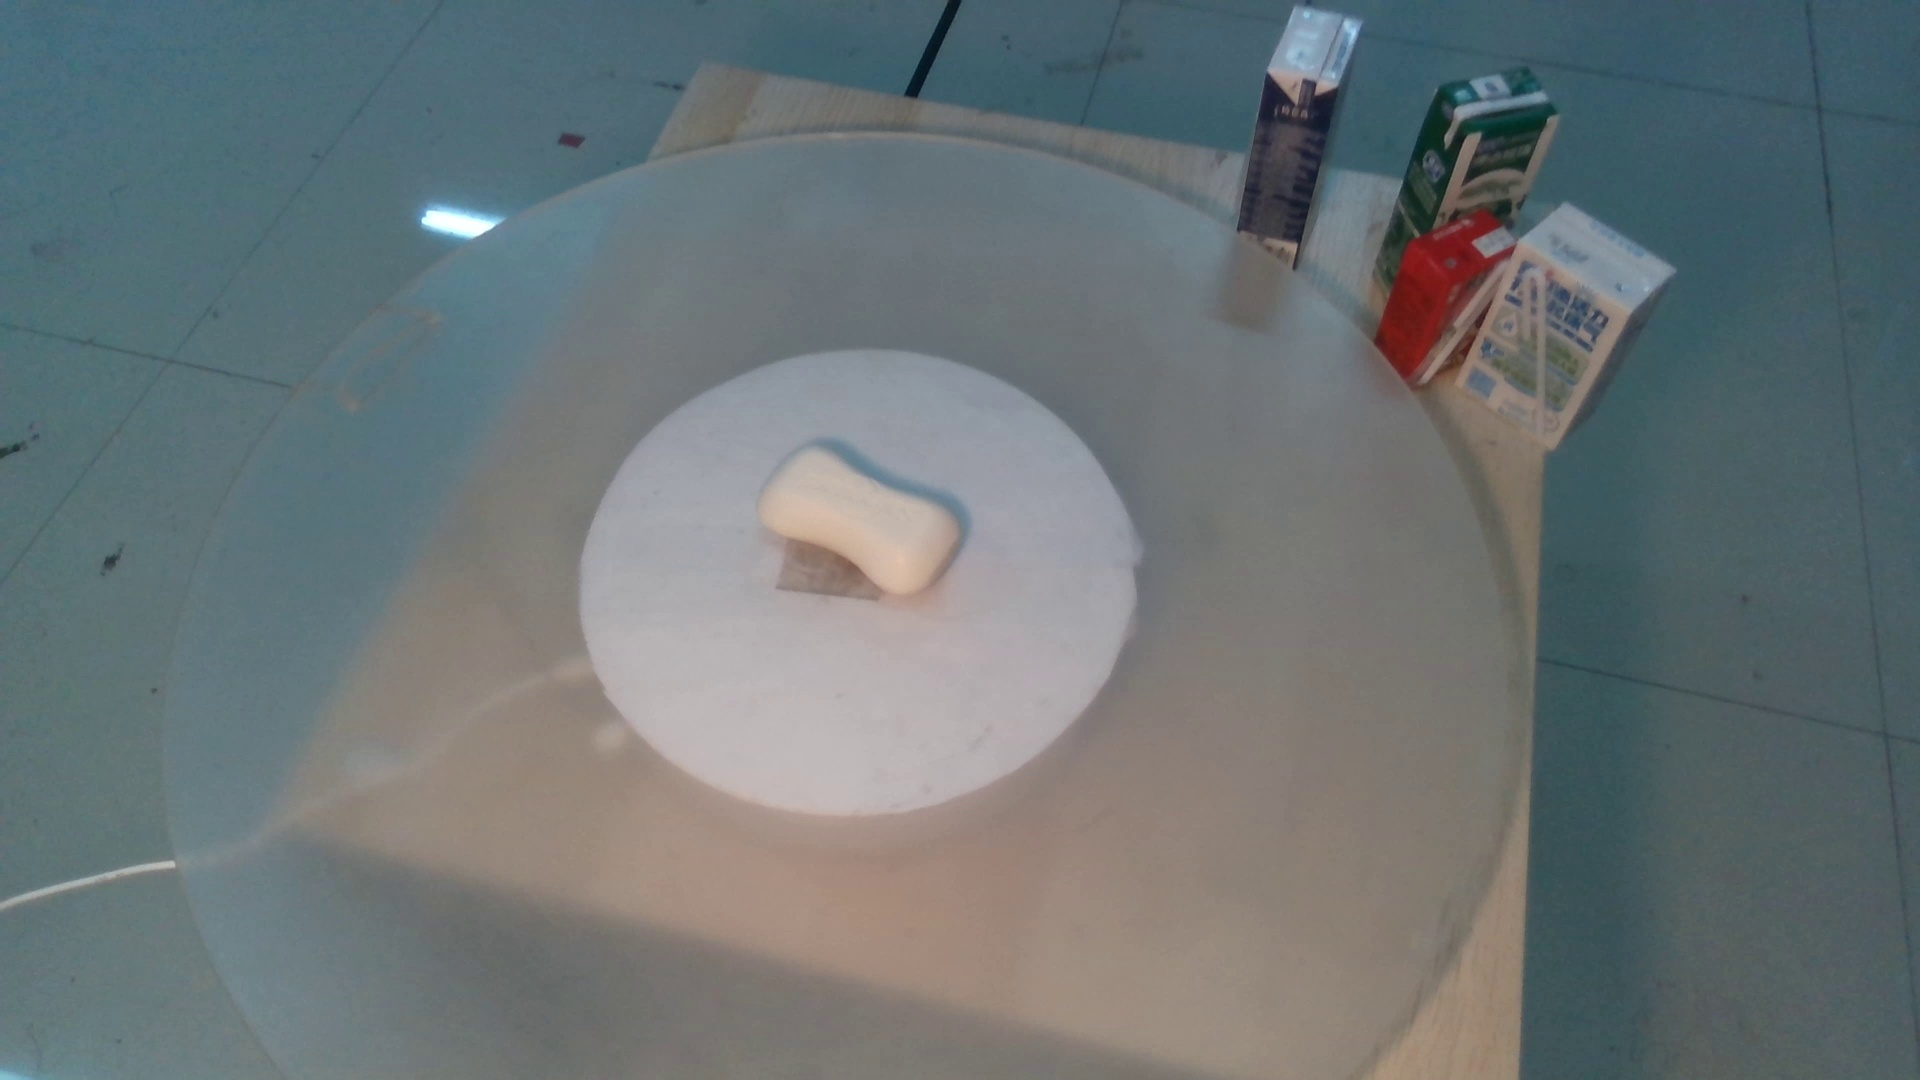CA003_1: (735, 421, 986, 593)
